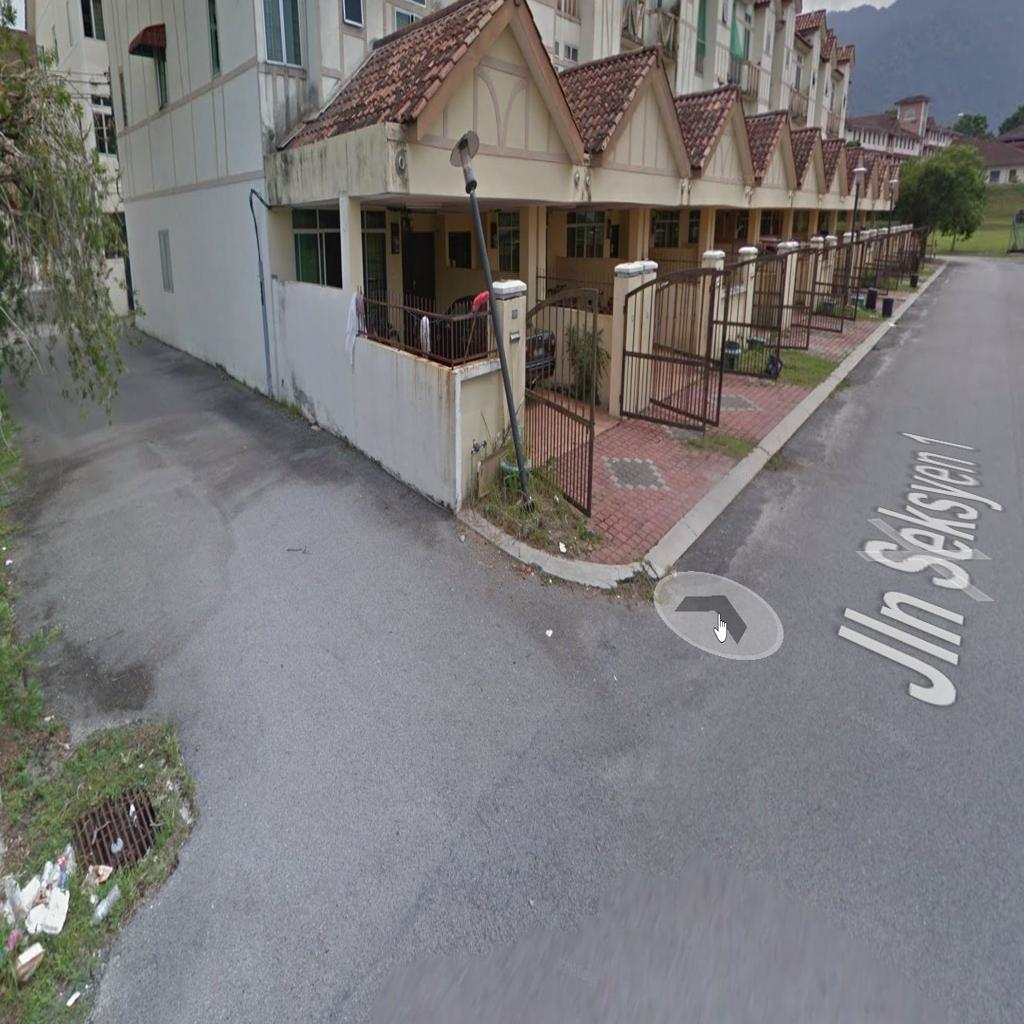Junction: (9, 408, 688, 945)
